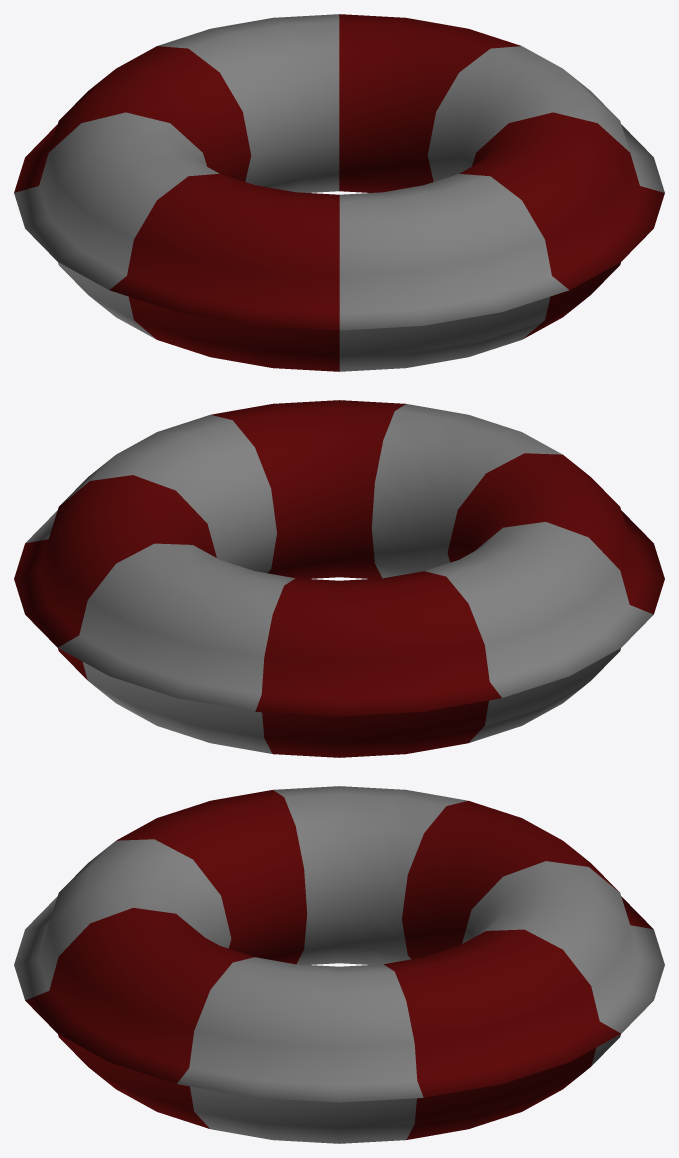
3 renders of one model, top to bottom at view 1: azimuth 30°, elevation 25°; view 2: azimuth 150°, elevation 25°; view 3: azimuth 270°, elevation 25°, orthographic.
Visible parts, largest first — view 1: Torus001; view 2: Torus001; view 3: Torus001.
Part boxes in pixels (x1,y1,x2,y2): Torus001: [14, 14, 664, 371]; Torus001: [14, 400, 664, 757]; Torus001: [14, 786, 664, 1143].
Size of the model in its own units: 91.32 by 91.32 by 24.95.
